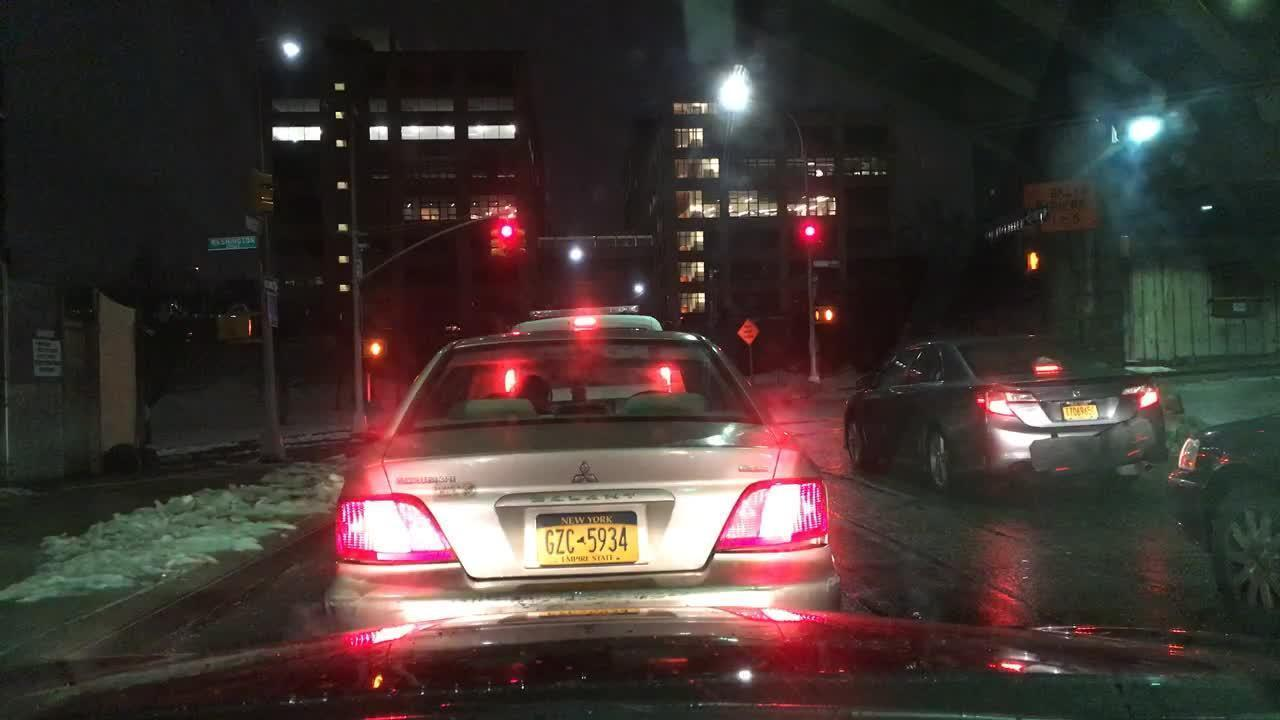Mitsubishi: (568, 454, 602, 491)
